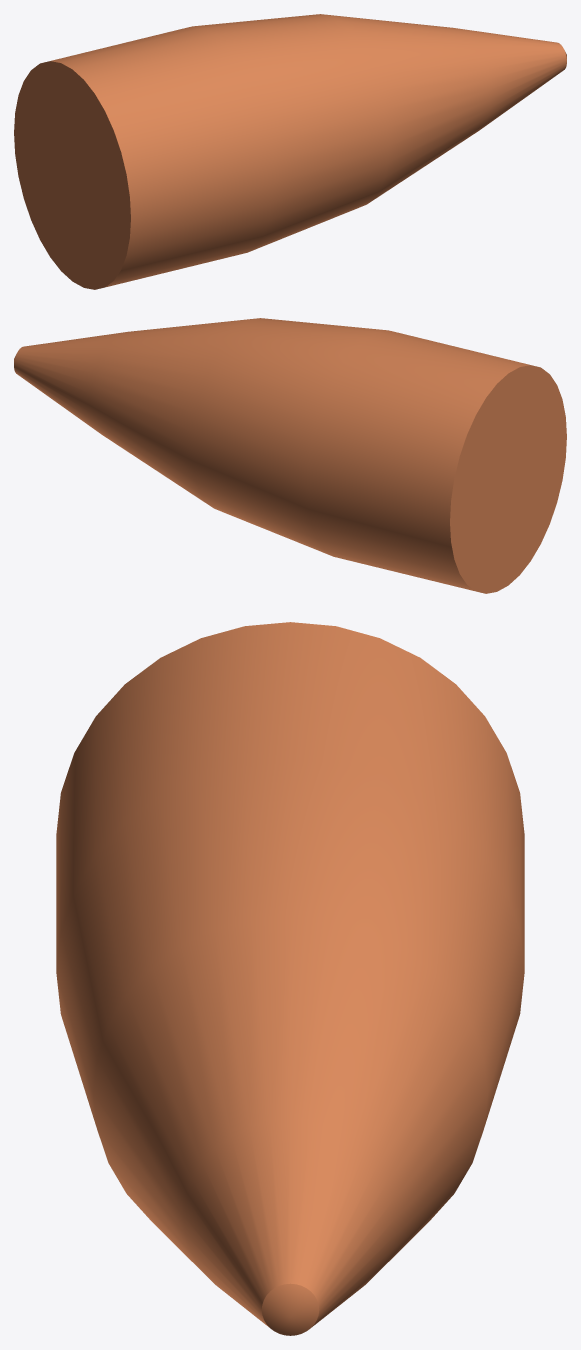
Rendered from bala_comum.obj.
3 renders of one model, top to bottom at view 1: azimuth 30°, elevation 25°; view 2: azimuth 150°, elevation 25°; view 3: azimuth 270°, elevation 25°, orthographic. The views are drawn at different scales.
Size of the model in its own units: 0.0556 by 0.0228 by 0.0228.
